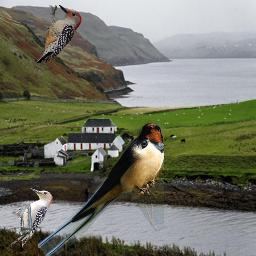Swallow: (38, 122, 164, 256)
Woodpecker: (7, 187, 54, 250), (37, 5, 82, 63)
